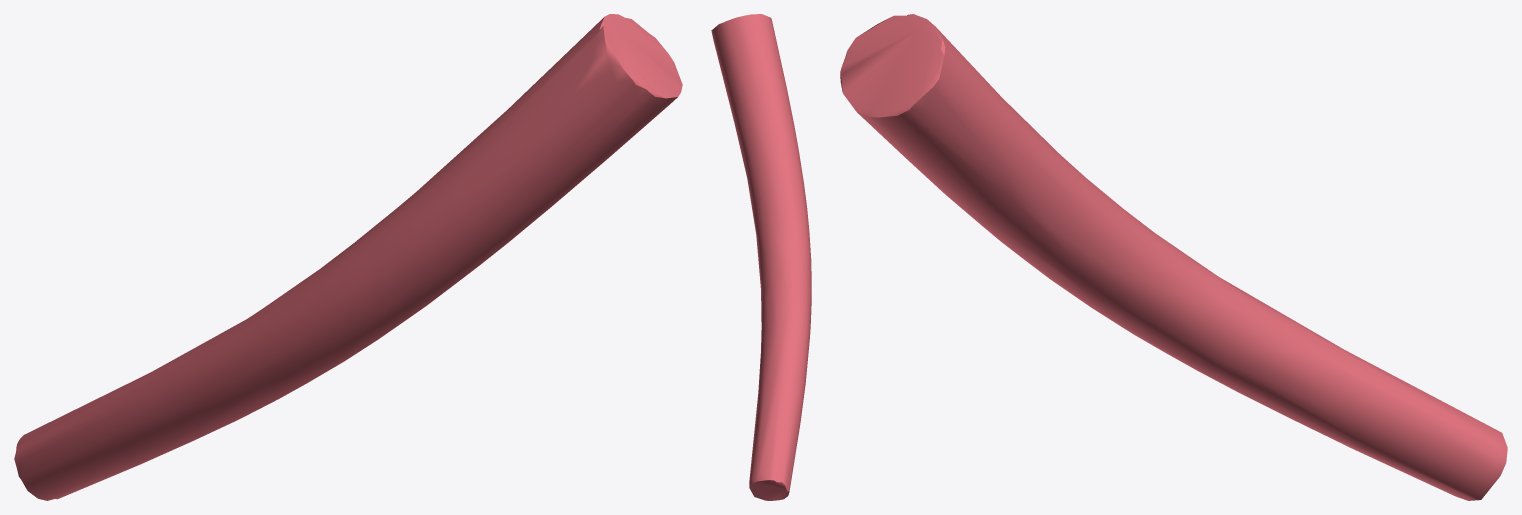
Rendered from fma8632_fj6084.glb.
The picture shows the model from 3 angles, left to right: view 1: azimuth 30°, elevation 25°; view 2: azimuth 150°, elevation 25°; view 3: azimuth 270°, elevation 25°; orthographic projection. The views are drawn at different scales.
Visible parts, largest first — view 1: FMA8632_FJ6084; view 2: FMA8632_FJ6084; view 3: FMA8632_FJ6084.
Boxes of the visible parts, box(x1,y1,x2,y2) form: FMA8632_FJ6084: box(14, 14, 682, 500); FMA8632_FJ6084: box(711, 14, 811, 500); FMA8632_FJ6084: box(840, 14, 1507, 500).
Size of the model in its own units: 0.0118 by 0.0171 by 0.0163.
